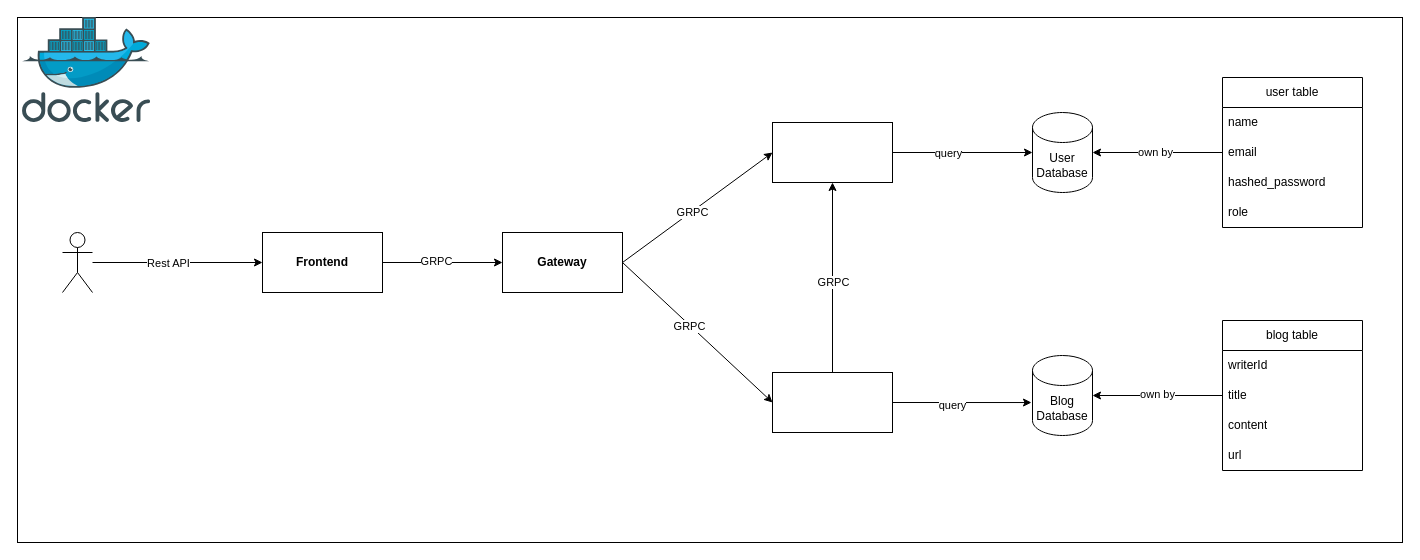
Some shapes in this 1420 by 560 pixel diagram are drawn without their labels. Here are the shapes that lost their labels. From the top down, the centre of each, then its label:
point (832, 152): User Service
point (77, 262): User
point (832, 402): Blog Service
